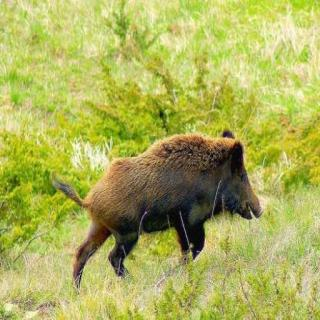Pig: (47, 118, 283, 273)
